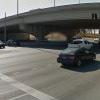Bridge: (4, 3, 97, 38)
